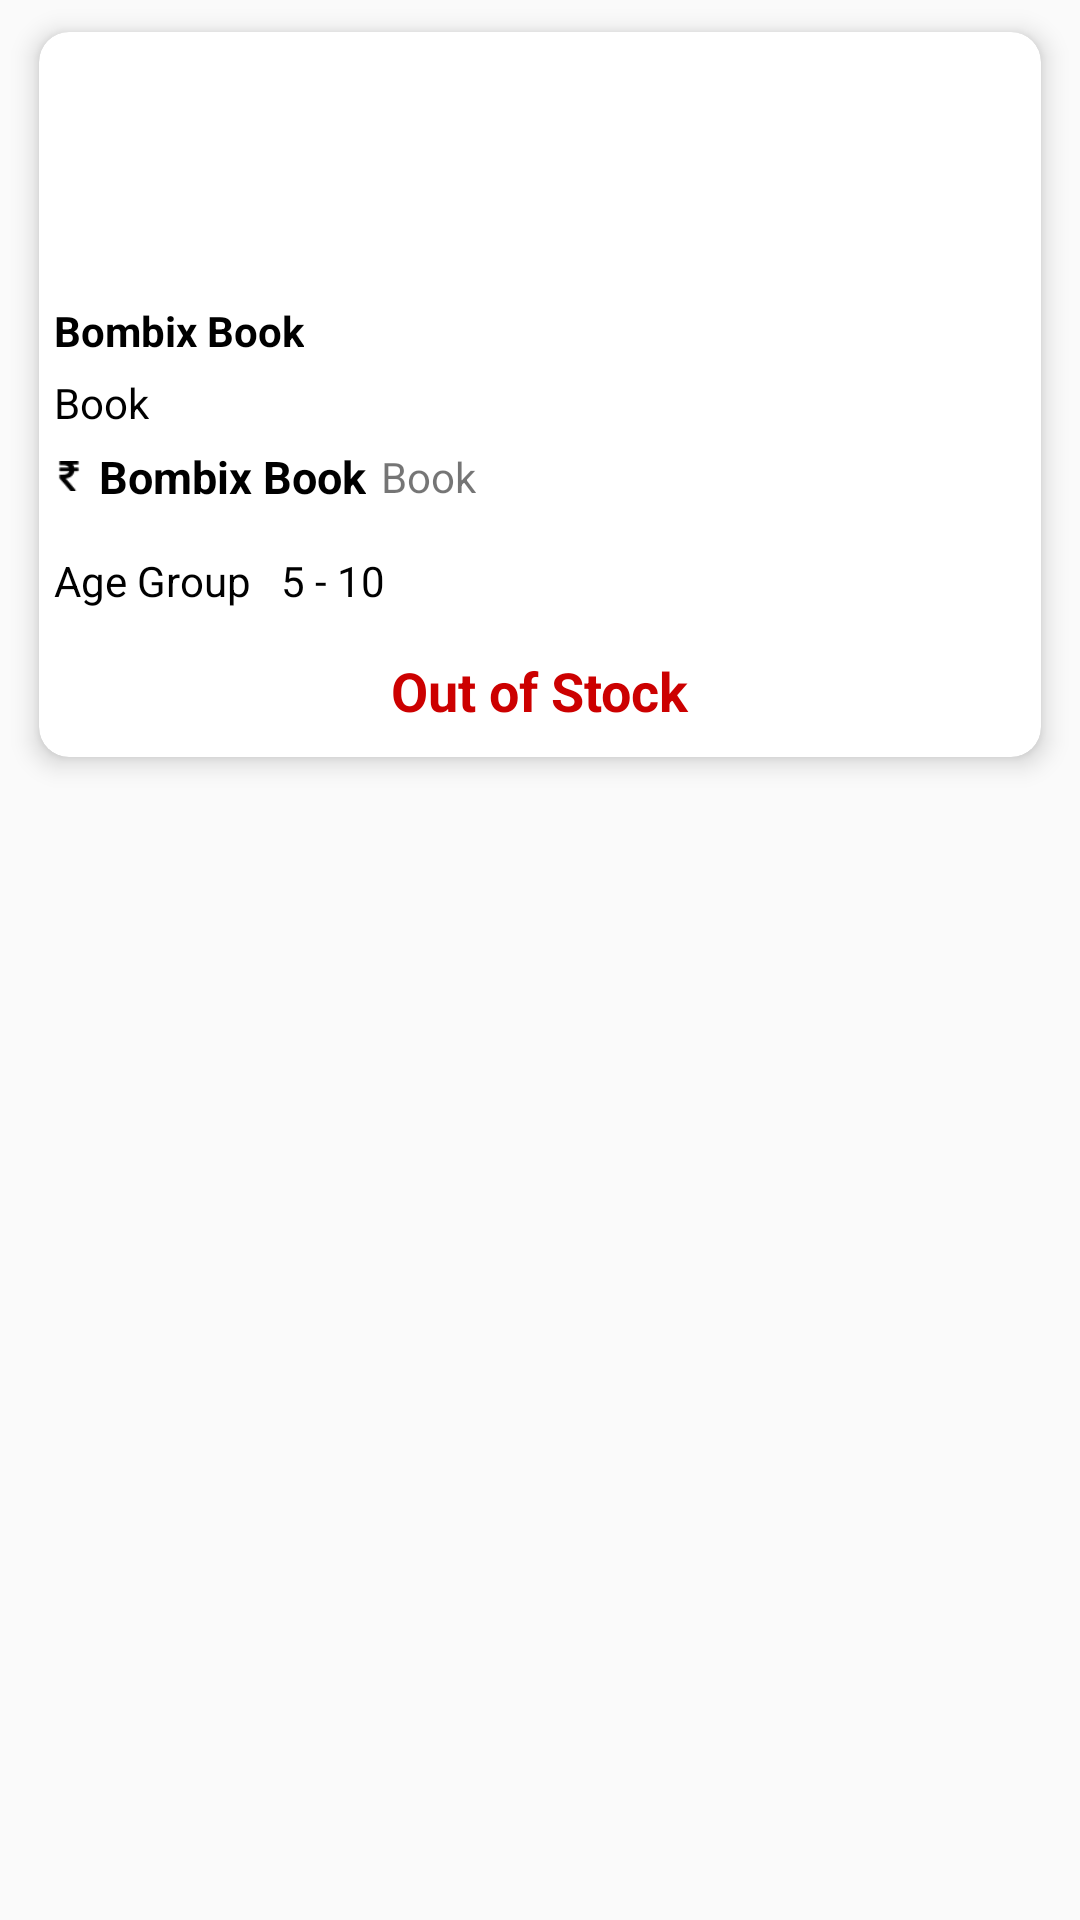

Point at icon controls on the screen. Image size 1080 x 1920, points as point (x, y).
money: point (69, 476)
